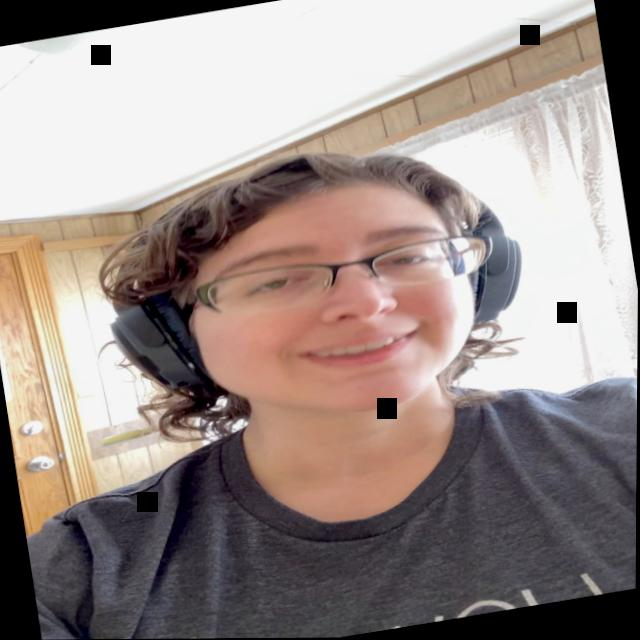NO-Mask: (165, 163, 494, 441)
